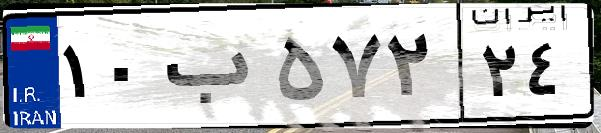0: (110, 28, 158, 98)
1: (57, 26, 110, 100)
2: (385, 28, 445, 110), (475, 38, 525, 113)
4: (525, 38, 570, 115)
5: (270, 28, 330, 110)
7: (330, 28, 385, 110)
ب: (158, 20, 270, 120)
